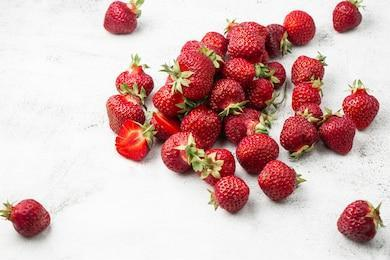Fresa: (171, 47, 217, 102), (178, 100, 223, 151), (334, 196, 380, 245), (159, 129, 205, 177), (234, 131, 282, 176), (104, 90, 149, 137), (5, 197, 54, 240), (256, 157, 299, 204), (339, 89, 383, 133), (320, 111, 361, 158), (210, 174, 253, 216), (279, 114, 322, 156), (197, 146, 238, 187), (207, 76, 251, 114), (99, 1, 141, 37), (282, 7, 318, 49), (115, 66, 155, 101), (328, 1, 366, 36), (290, 78, 324, 113)
